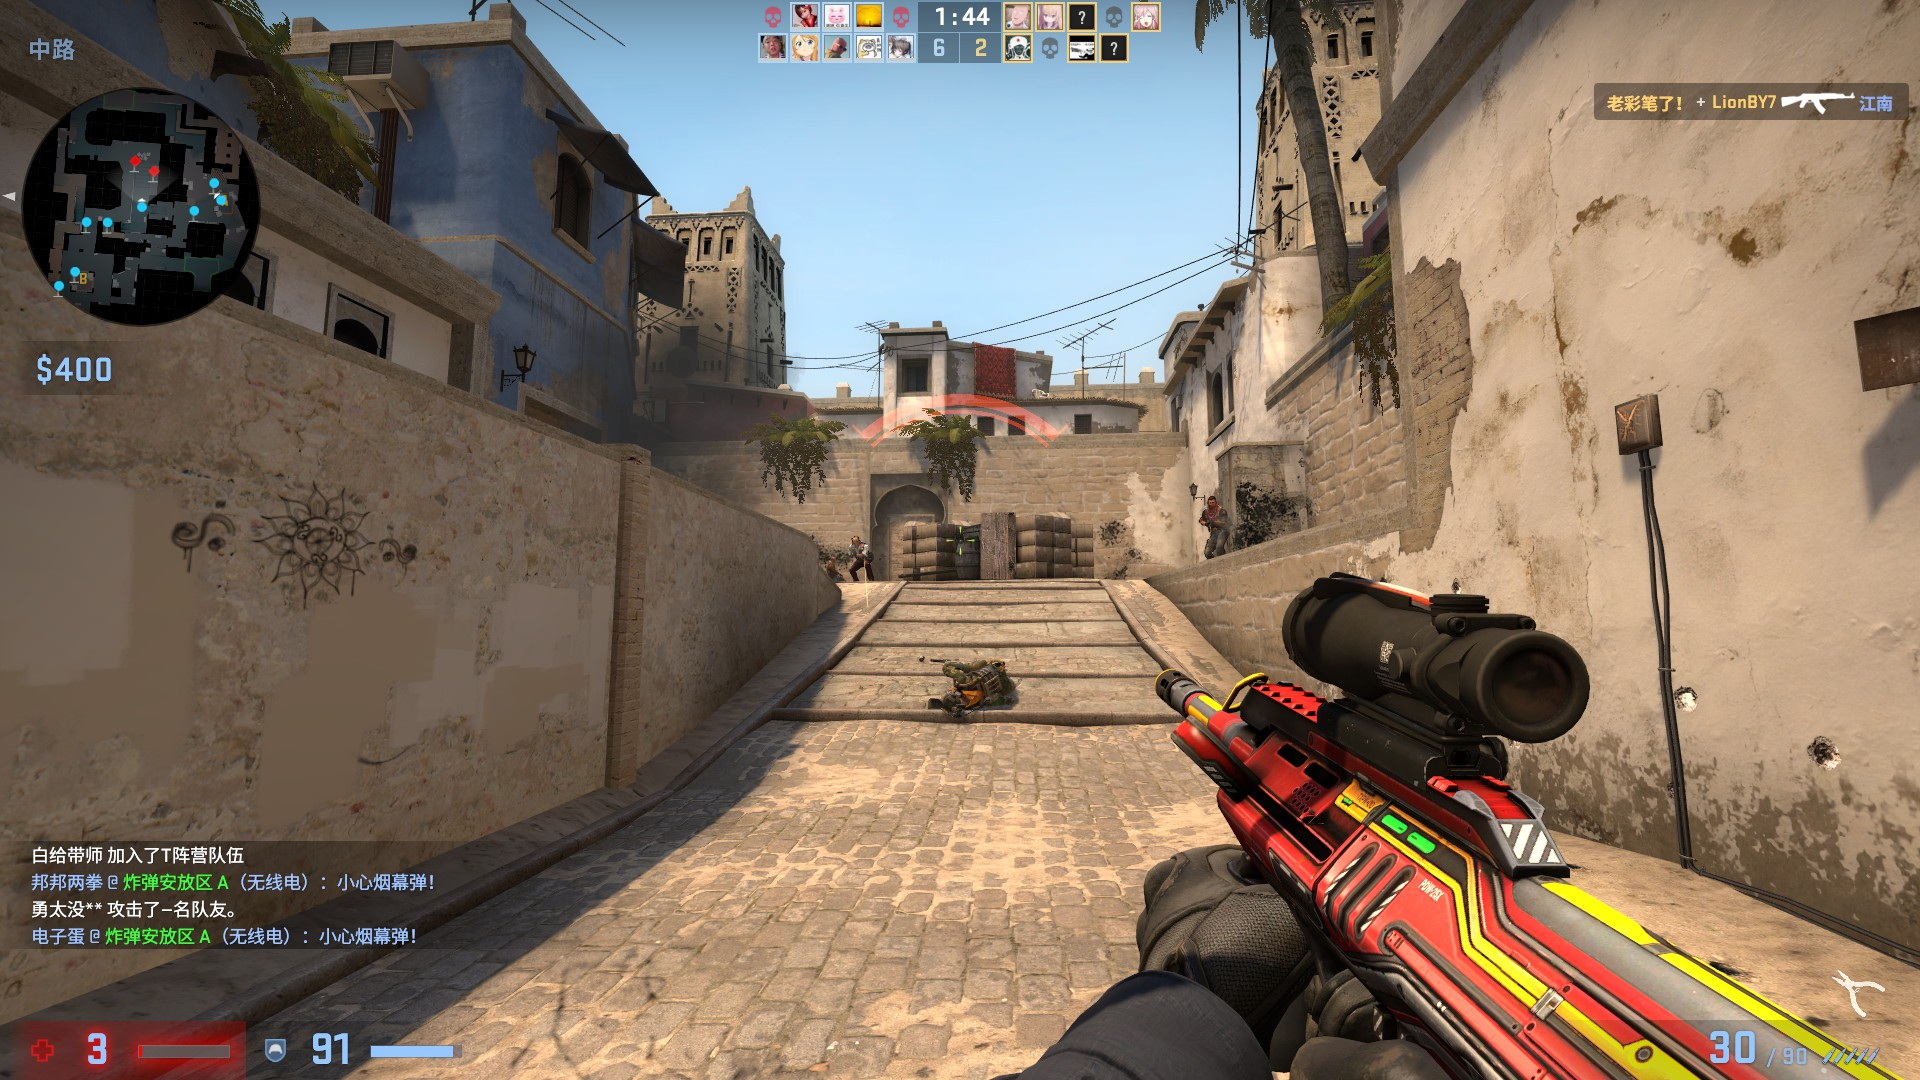head: (940, 690, 967, 716), (1207, 494, 1219, 509), (850, 535, 861, 548), (829, 555, 837, 562)
